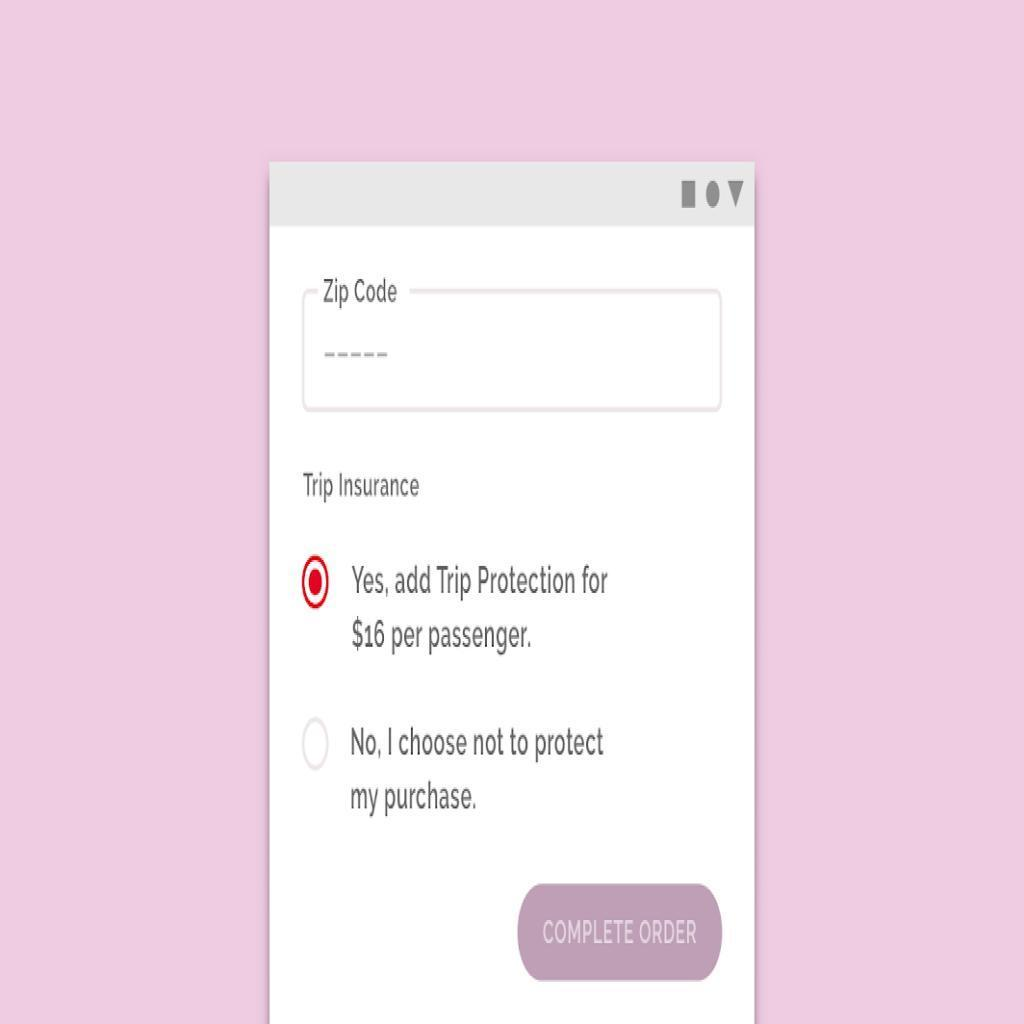button: (521, 882, 722, 984)
input: (307, 291, 727, 410)
radio: (297, 716, 334, 769), (300, 557, 330, 609)
